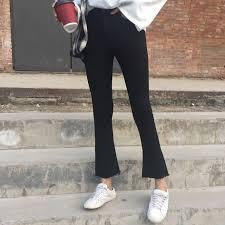pants: (79, 11, 166, 184)
